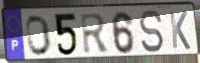5: (52, 12, 80, 58)
6: (110, 10, 137, 56)
K: (168, 10, 192, 51)
O: (25, 14, 53, 58)
R: (79, 12, 112, 56)
S: (137, 9, 166, 55)
